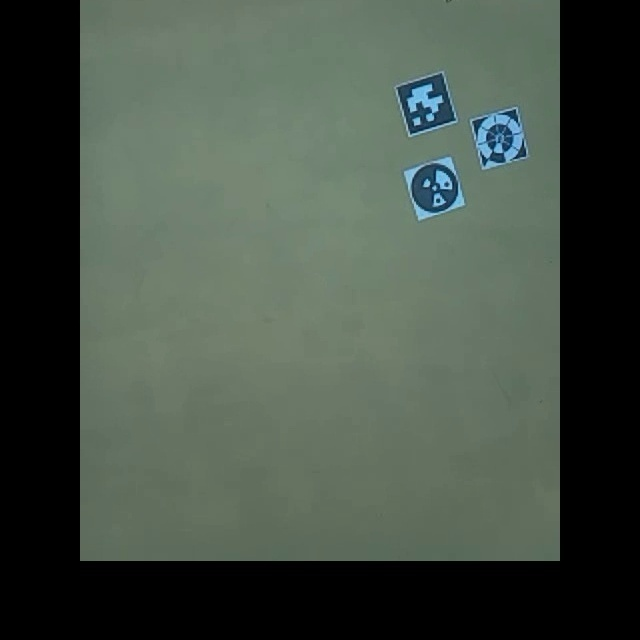landing-zone: (469, 108, 530, 171)
